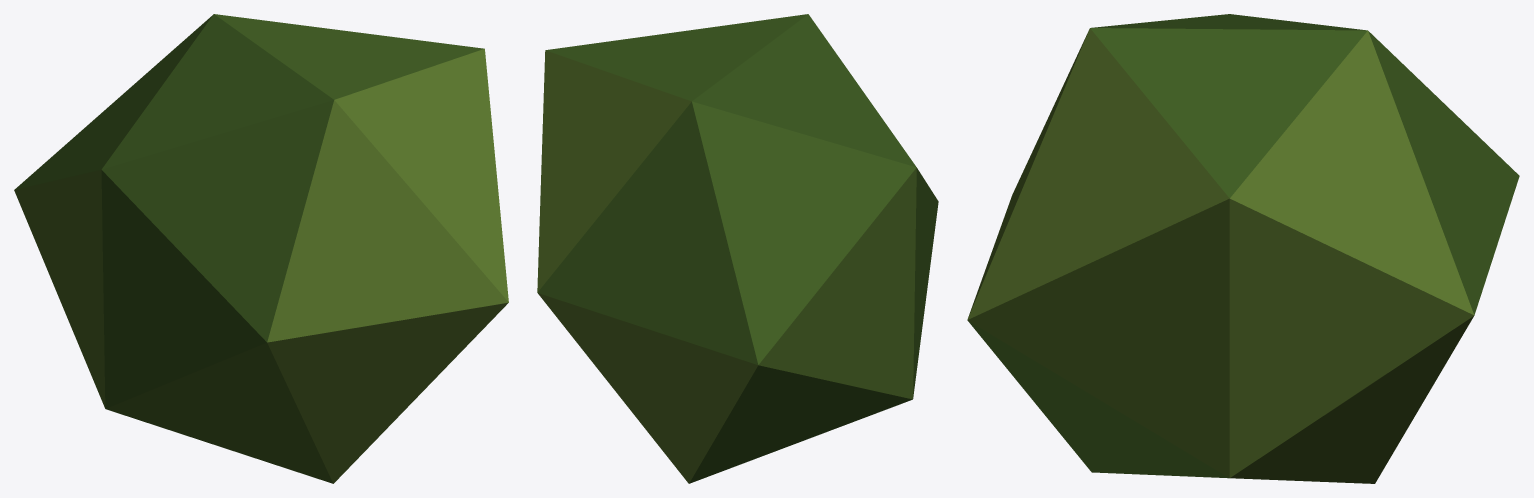
Rendered from fr_bush_b_lod1.glb.
3 renders of one model, left to right at view 1: azimuth 30°, elevation 25°; view 2: azimuth 150°, elevation 25°; view 3: azimuth 270°, elevation 25°, orthographic. The views are drawn at different scales.
Visible parts, largest first — view 1: fr_bush_b_lod1; view 2: fr_bush_b_lod1; view 3: fr_bush_b_lod1.
Part boxes in pixels (left/top/right/bottom): fr_bush_b_lod1: left=14, top=14, right=508, bottom=483; fr_bush_b_lod1: left=537, top=14, right=938, bottom=483; fr_bush_b_lod1: left=967, top=14, right=1519, bottom=483.
Bounding box in the file's own units: 1.9 × 1.87 × 2.05.
